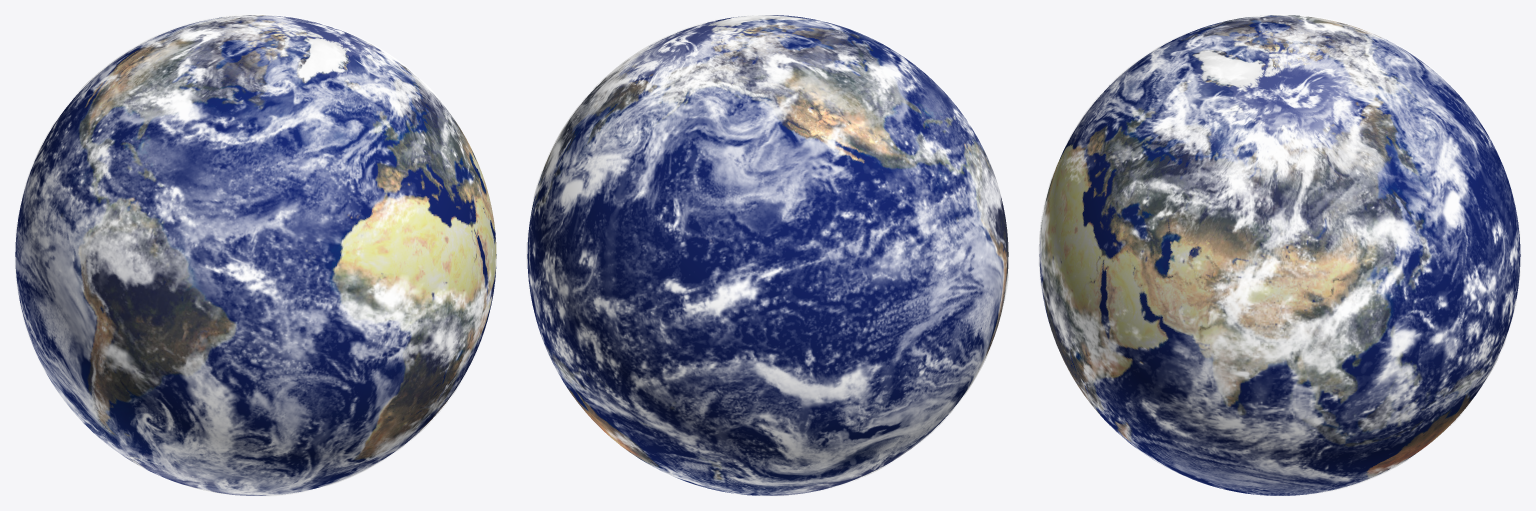
The model's file is earth-vivid.glb.
3 views of the same model, side by side, from view 1: azimuth 30°, elevation 25°; view 2: azimuth 150°, elevation 25°; view 3: azimuth 270°, elevation 25° (orthographic).
Visible parts, largest first — view 1: Earth surface, Cloud shell; view 2: Earth surface, Cloud shell; view 3: Earth surface, Cloud shell.
Part boxes in pixels (x1,y1,x2,y2): Earth surface: (15,15,496,495); Cloud shell: (15,14,496,496); Earth surface: (527,15,1008,495); Cloud shell: (526,14,1008,496); Earth surface: (1039,15,1520,495); Cloud shell: (1038,14,1521,496).
Size of the model in its own units: 2.01 by 2.01 by 2.01.
2 materials, 2 textured.
